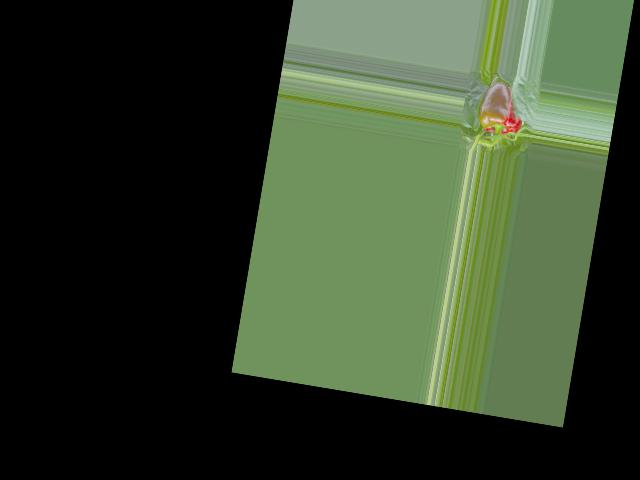bell_pepper: (469, 75, 530, 144)
